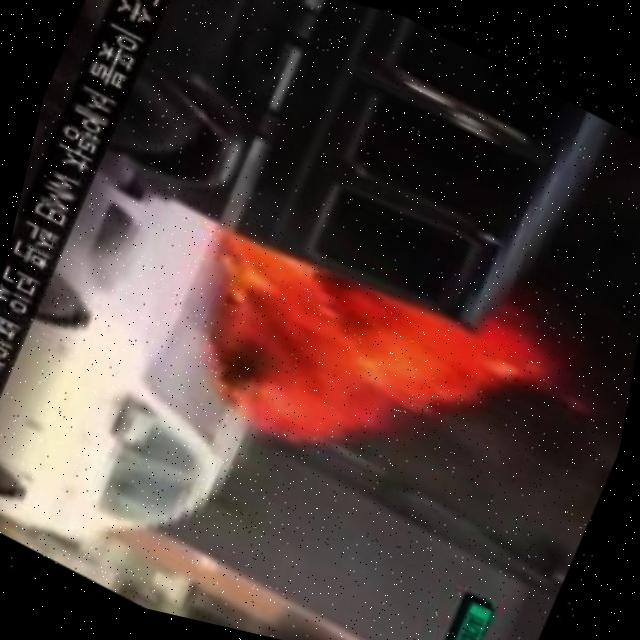fire: (162, 215, 640, 520)
